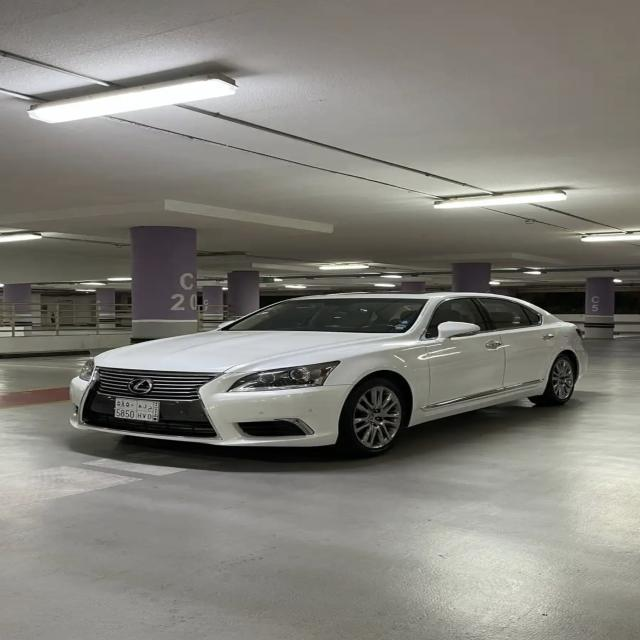license_plate: (114, 398, 160, 422)
